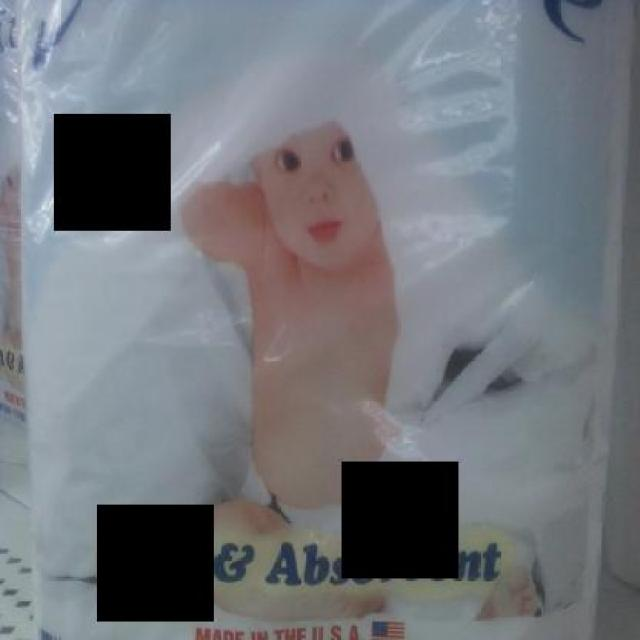plastic bag: (3, 0, 632, 637)
